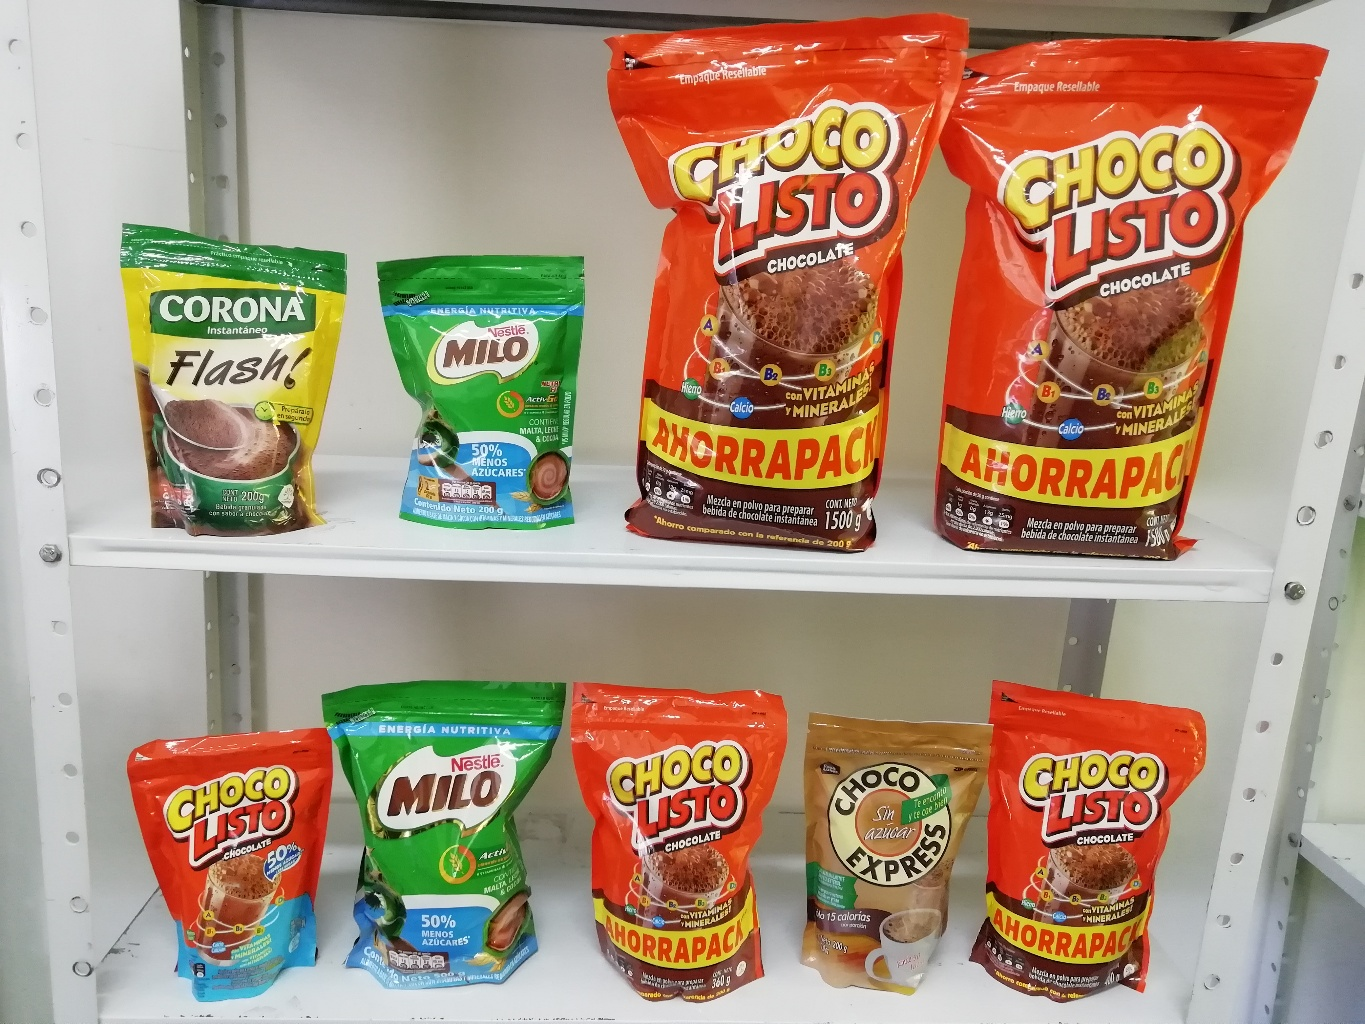COL0170103DYP1,500: (624, 14, 918, 547)
COL0170103DYP36000: (575, 680, 793, 1004)
COL0170103DYP40000: (980, 675, 1199, 1011)
COL0170104DYP20000: (136, 728, 341, 1000)
COL0170205DYP20000: (376, 234, 603, 543)
COL0170205DYP50000: (324, 664, 575, 1004)
